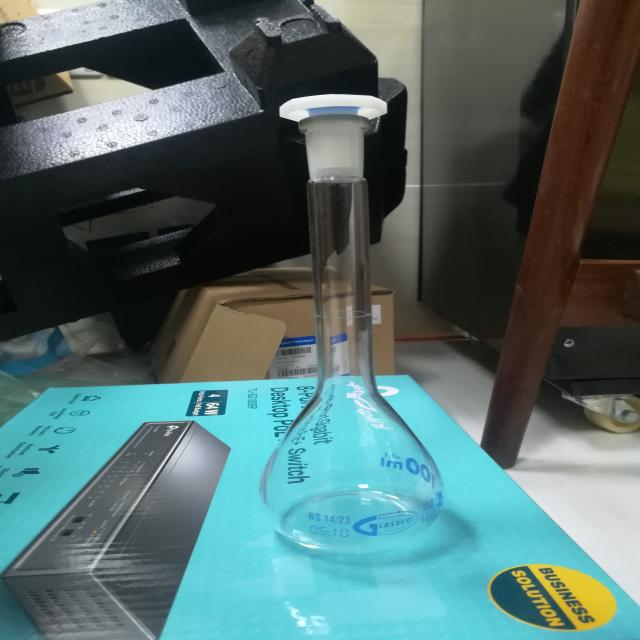Volumetric_Flask: (231, 61, 488, 590)
